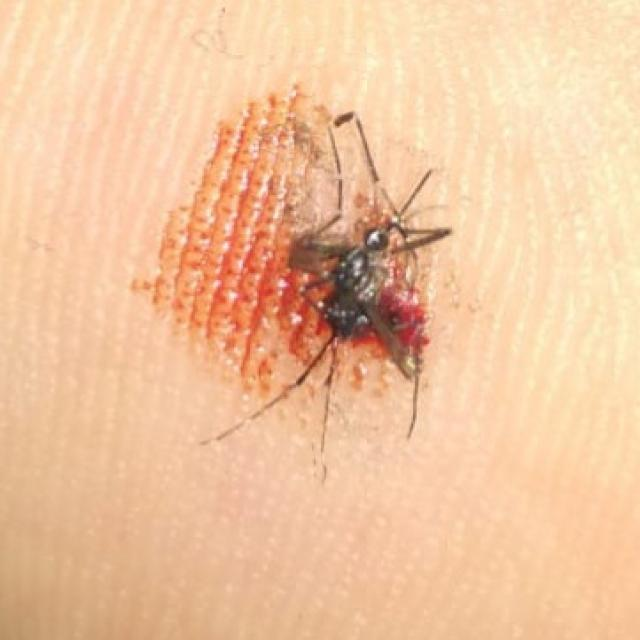albopictus: (200, 87, 463, 489)
